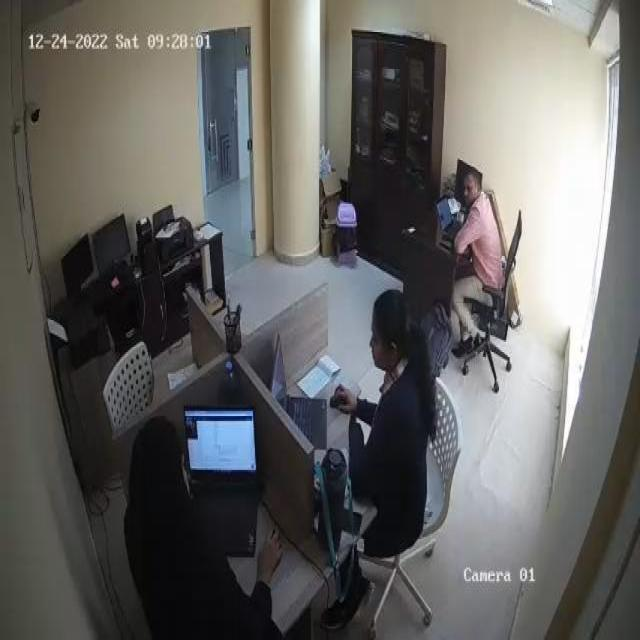bare_hand: (246, 529, 290, 591), (332, 372, 367, 428)
